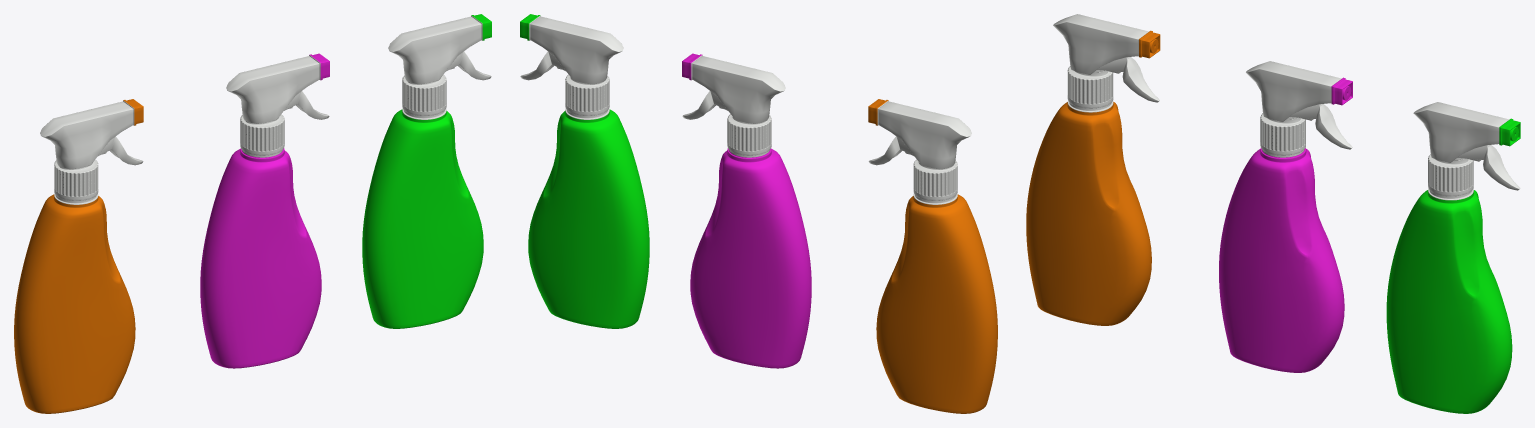
Rendered from sprays.fbx.
3 views of the same model, side by side, from view 1: azimuth 30°, elevation 25°; view 2: azimuth 150°, elevation 25°; view 3: azimuth 330°, elevation 25° (orthographic). The views are drawn at different scales.
Visible parts, largest first — view 1: pinkspray, greenspray, orangespray; view 2: pinkspray, greenspray, orangespray; view 3: orangespray, greenspray, pinkspray.
Boxes of the visible parts, x1,y1,x2,y2 form: pinkspray: [200, 53, 329, 368]; greenspray: [362, 14, 491, 328]; orangespray: [14, 99, 143, 413]; pinkspray: [682, 53, 811, 368]; greenspray: [520, 14, 649, 328]; orangespray: [868, 99, 997, 413]; orangespray: [1026, 14, 1160, 325]; greenspray: [1386, 102, 1520, 413]; pinkspray: [1219, 61, 1352, 372].
Bounding box in the file's own units: 35.15 × 19.87 × 3.63.
